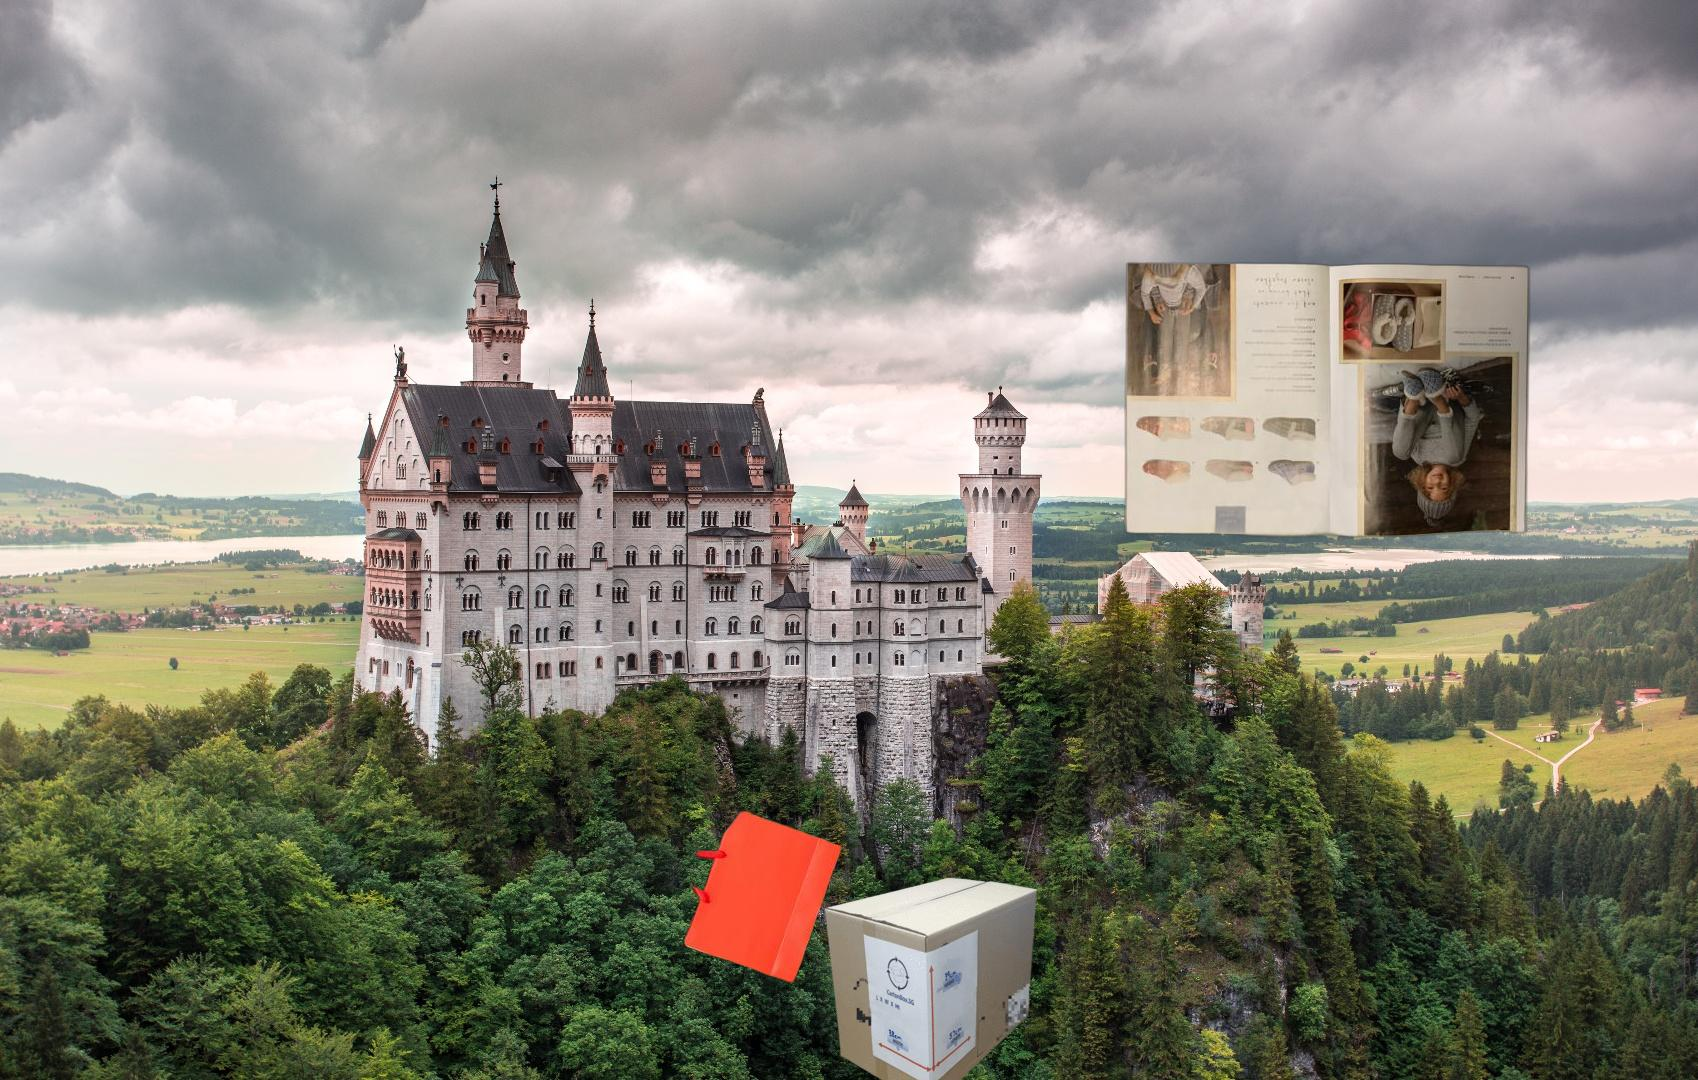paper: (1120, 259, 1533, 541)
paper-bag: (573, 696, 847, 986)
trashbox-cardboard: (824, 877, 1038, 1080)
